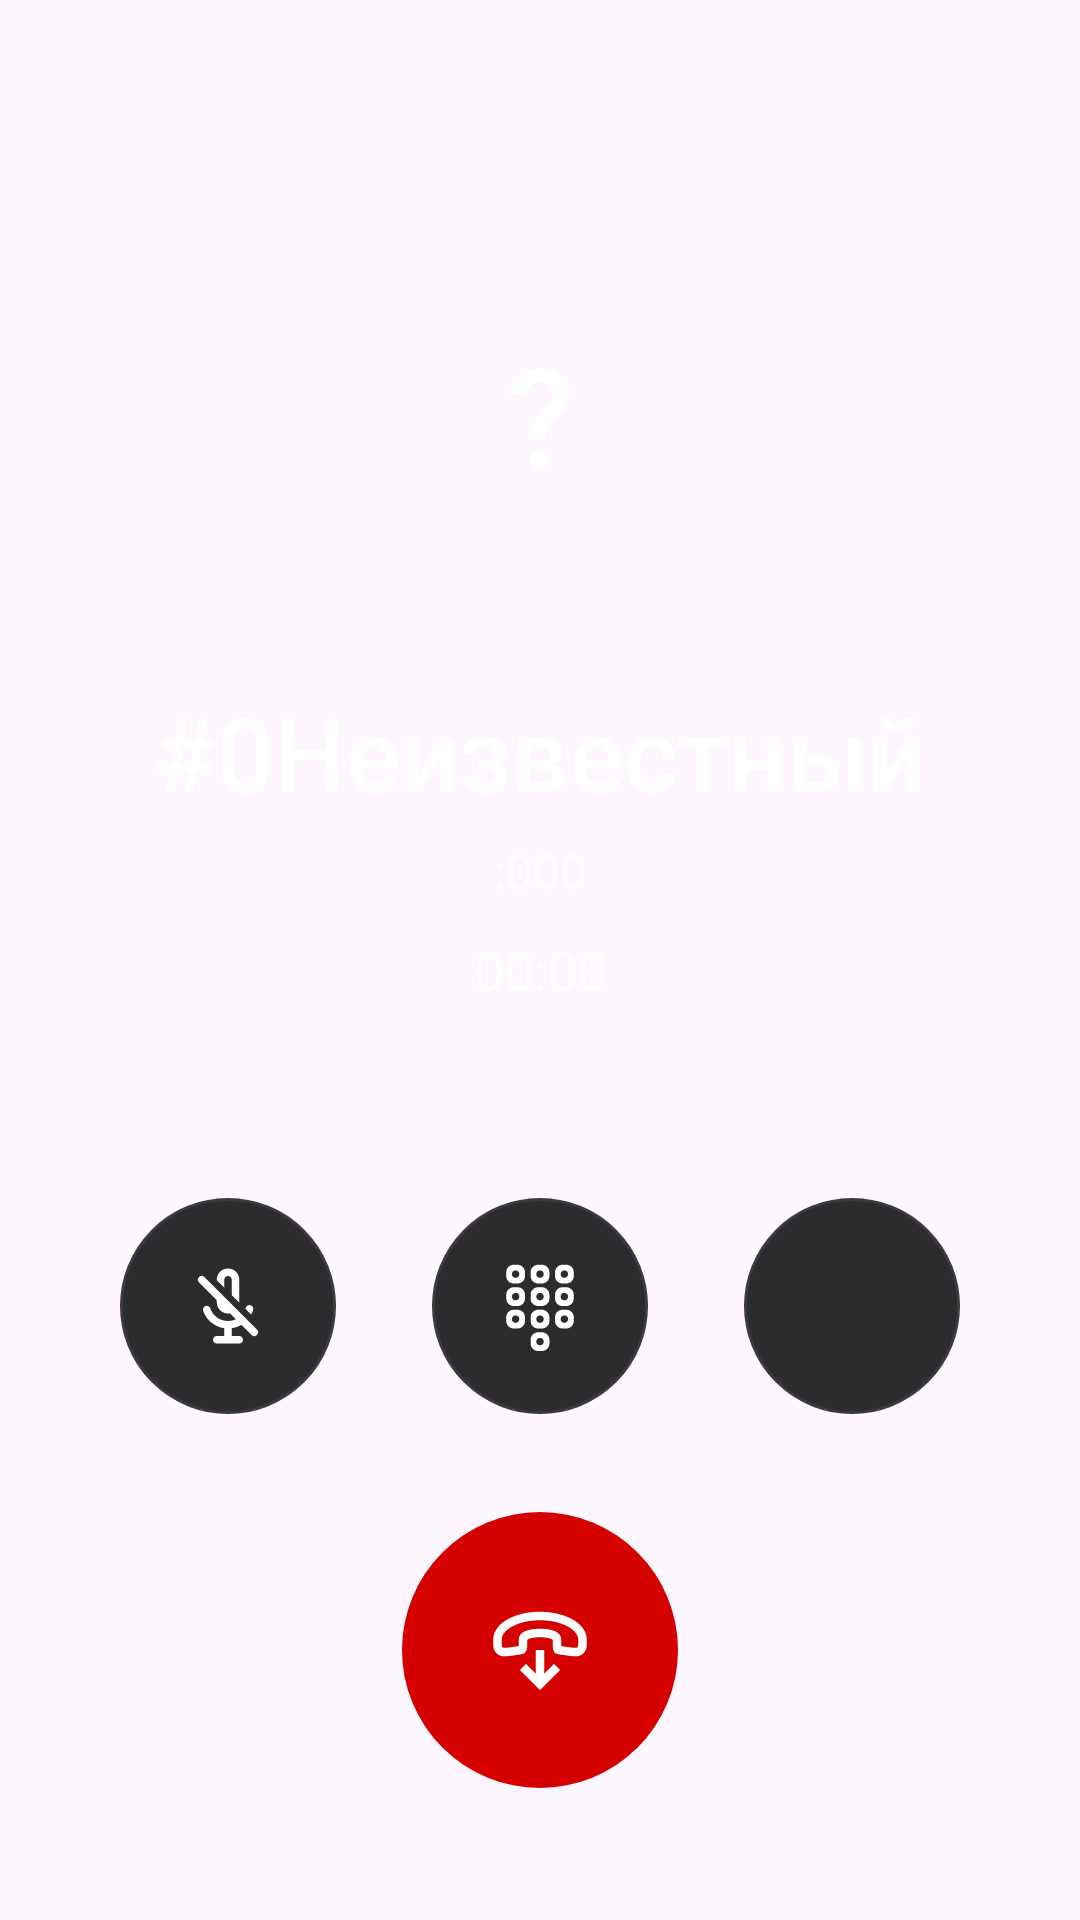

Icon bounding boxes for this 1080px x 1920px phone screenshot, format (x1, y1, x2, y2):
call end: (493, 1611, 587, 1690)
dialpad: (506, 1264, 574, 1351)
mic off: (197, 1268, 259, 1344)
